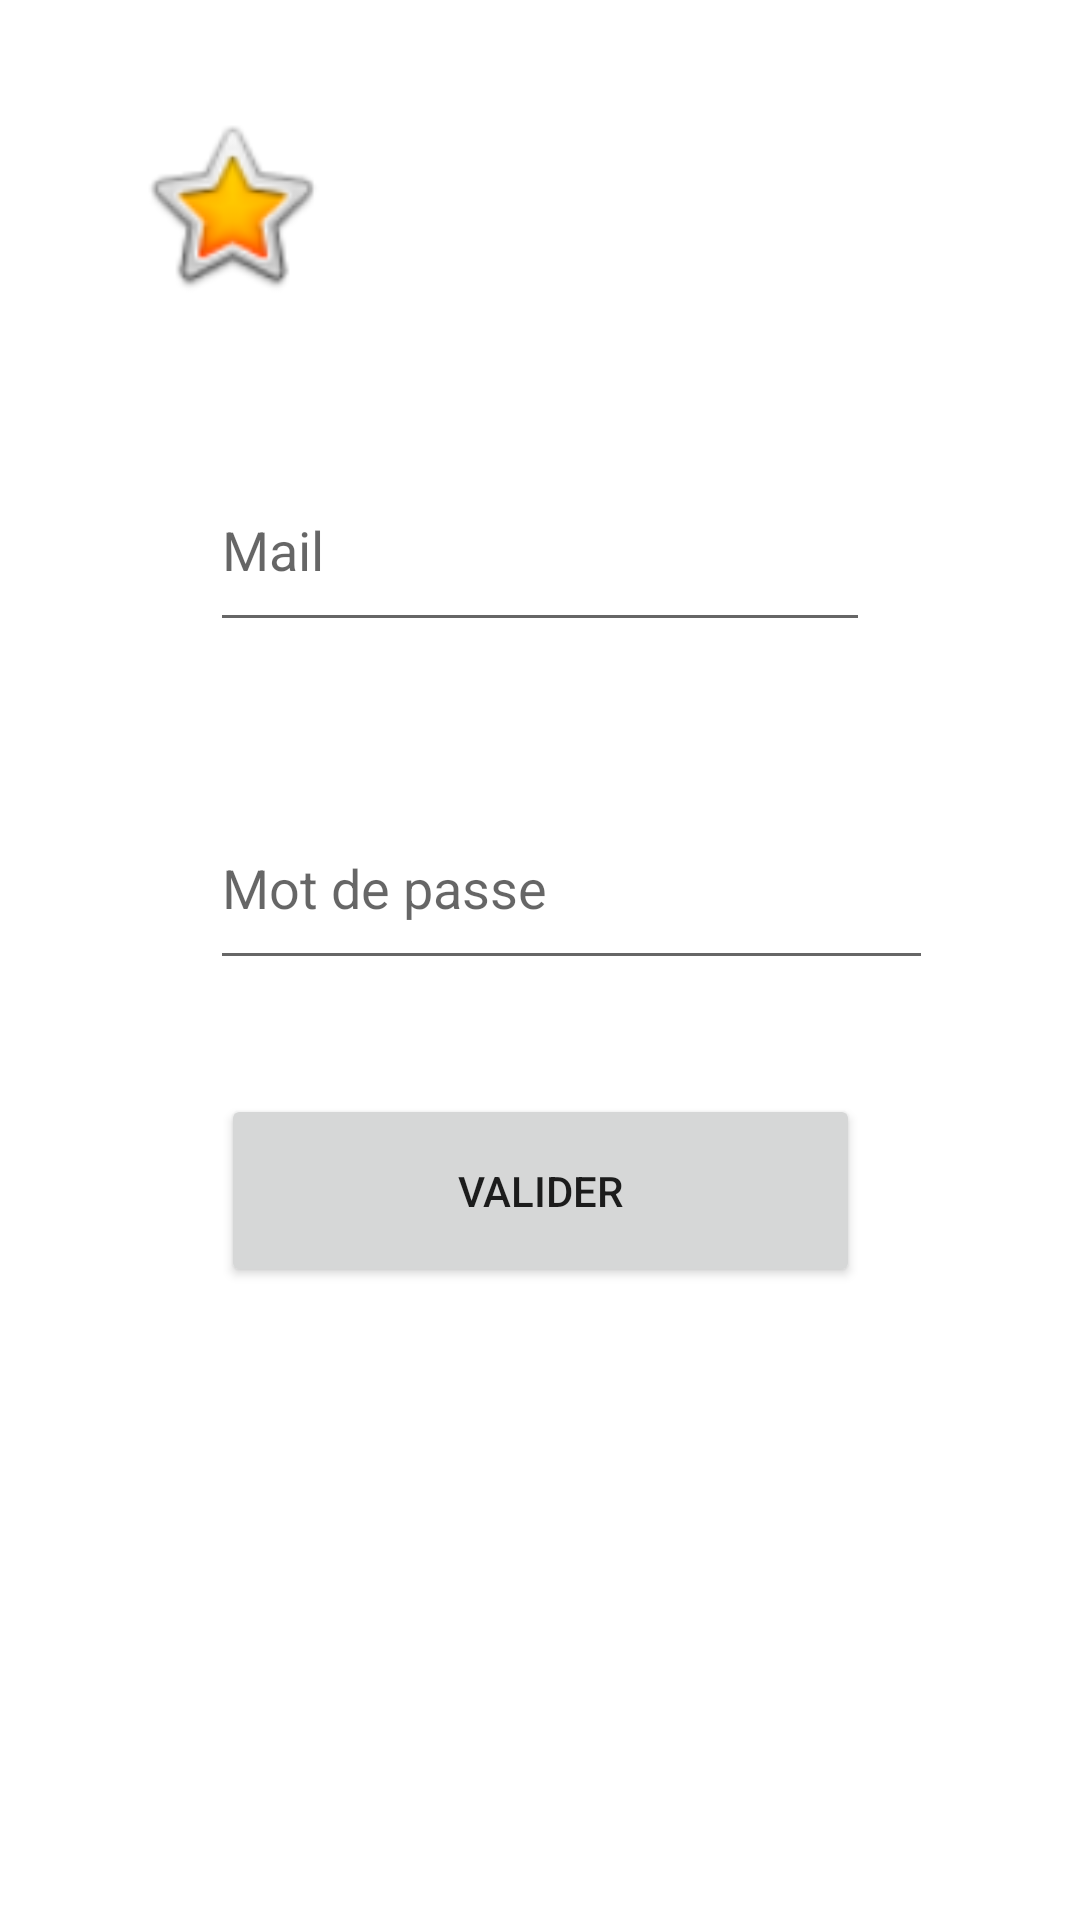

Point at icon controls on the screen. Image size 1080*1920, points as point (x, y).
star on: point (233, 206)
